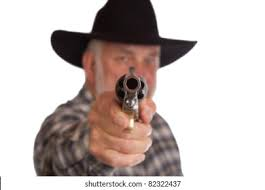gun: (111, 66, 153, 123)
